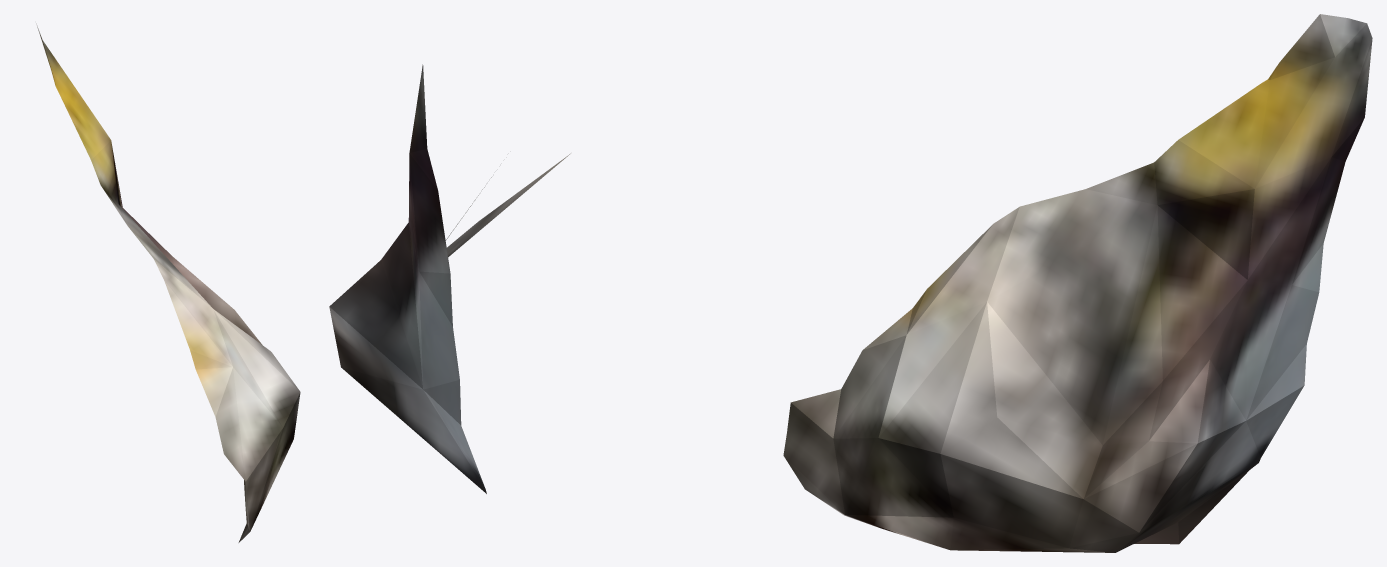
The picture shows the model from 3 angles, left to right: view 1: azimuth 30°, elevation 25°; view 2: azimuth 150°, elevation 25°; view 3: azimuth 270°, elevation 25°; orthographic projection. The views are drawn at different scales.
Size of the model in its own units: 0.1497 by 0.4 by 0.4028.
Materials: 1 (1 with a texture image).
